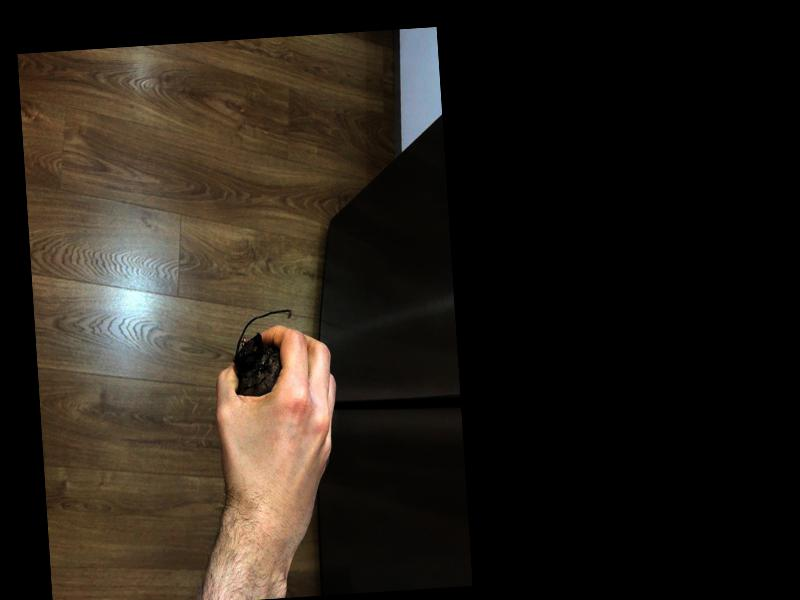Beet: (230, 306, 298, 397)
